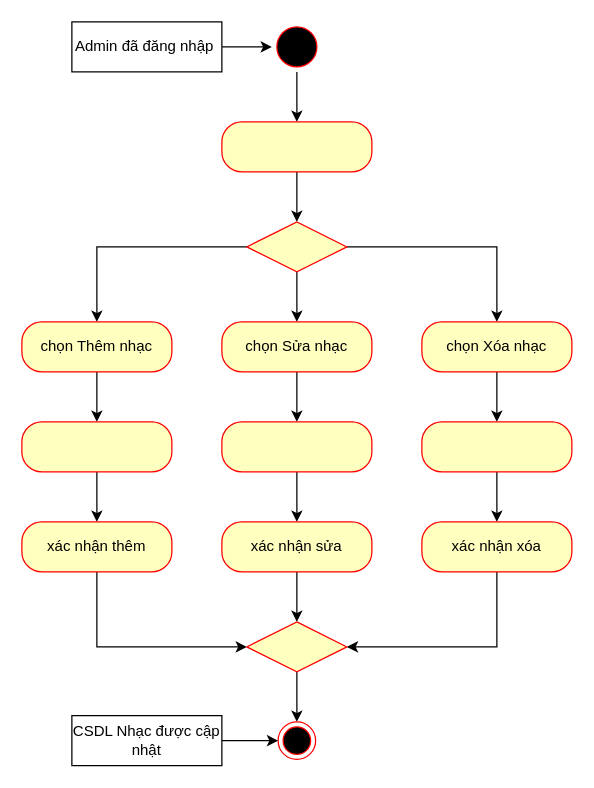
The diagram is 594 pixels wide and 788 high, and some of its shapes have lost their labels. The box of each missing label's shape, as (x1, y1, x2, y2) in pixels:
chọn Cập nhật nhạc: (221, 121, 372, 172)
tìm tên bài hát: (421, 421, 572, 472)
tìm tên và sửa thông tin: (221, 421, 372, 472)
điền thông tin: (21, 421, 172, 472)
